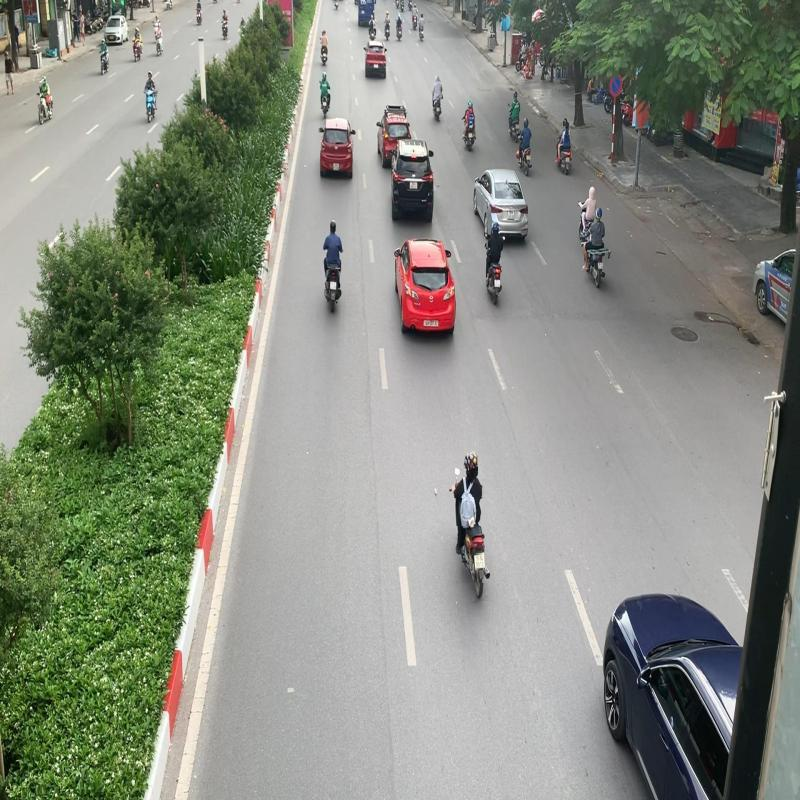helmet: (468, 451, 478, 471)
licenseplate: (474, 554, 486, 570)
motorcyclist: (449, 450, 493, 602)
